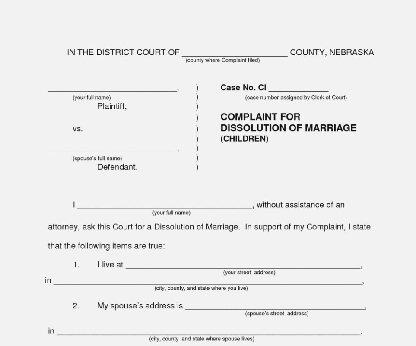textline: (52, 274, 365, 286), (55, 326, 362, 336), (124, 258, 362, 270), (182, 300, 367, 312), (76, 199, 254, 210), (45, 144, 180, 154), (46, 84, 180, 94), (180, 49, 290, 57), (268, 83, 330, 94)
